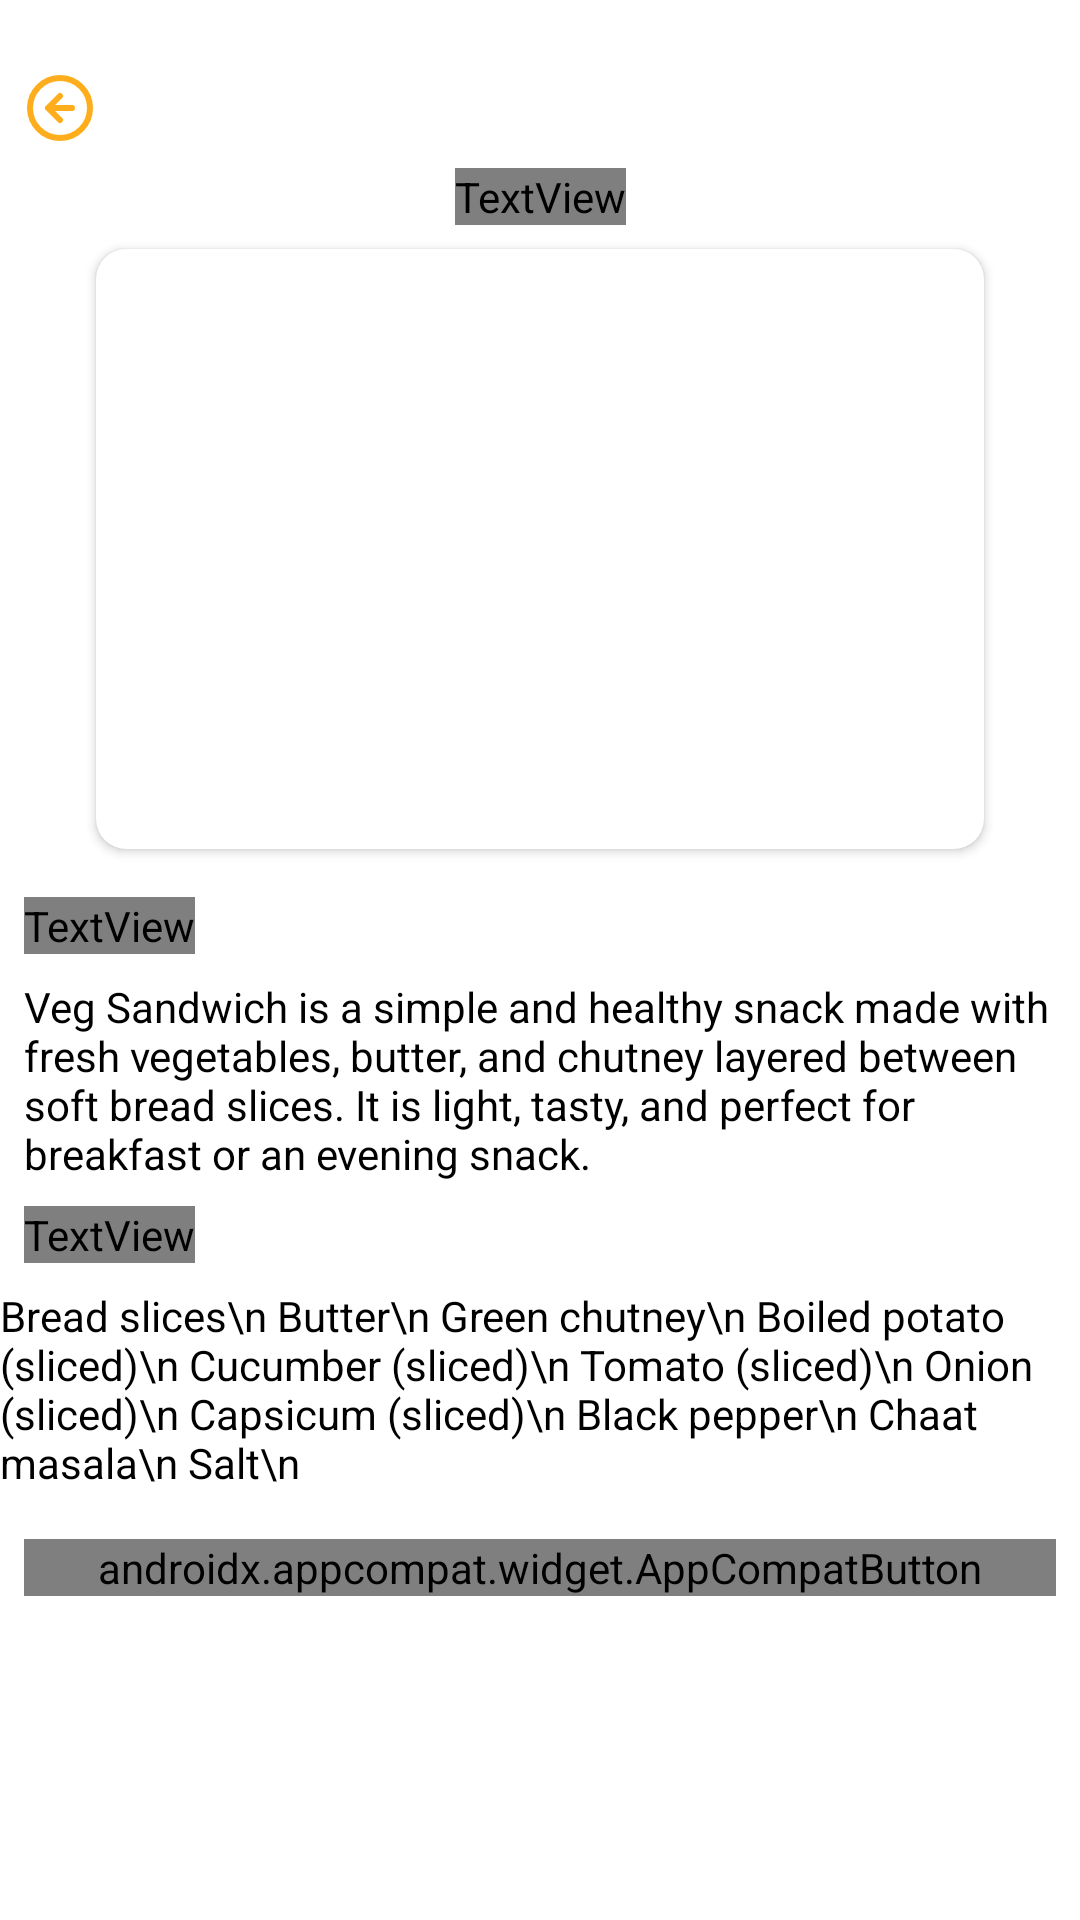

Icon bounding boxes for this 1080px x 1920px phone screenshot, format bbox(x1, y1, x2, y2):
arrow left: bbox(27, 75, 93, 141)
